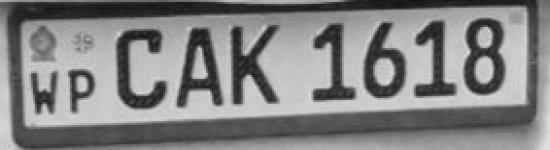1: (299, 17, 359, 109), (412, 18, 464, 100)
6: (360, 18, 412, 104)
8: (460, 9, 509, 99)
A: (176, 23, 228, 114)
C: (110, 22, 172, 116)
K: (230, 20, 285, 110)
P: (65, 66, 99, 115)
W: (27, 65, 61, 117)
